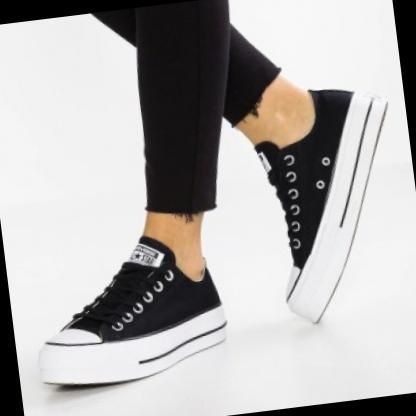no_safety-shoe: (222, 71, 415, 352), (26, 239, 242, 410)
